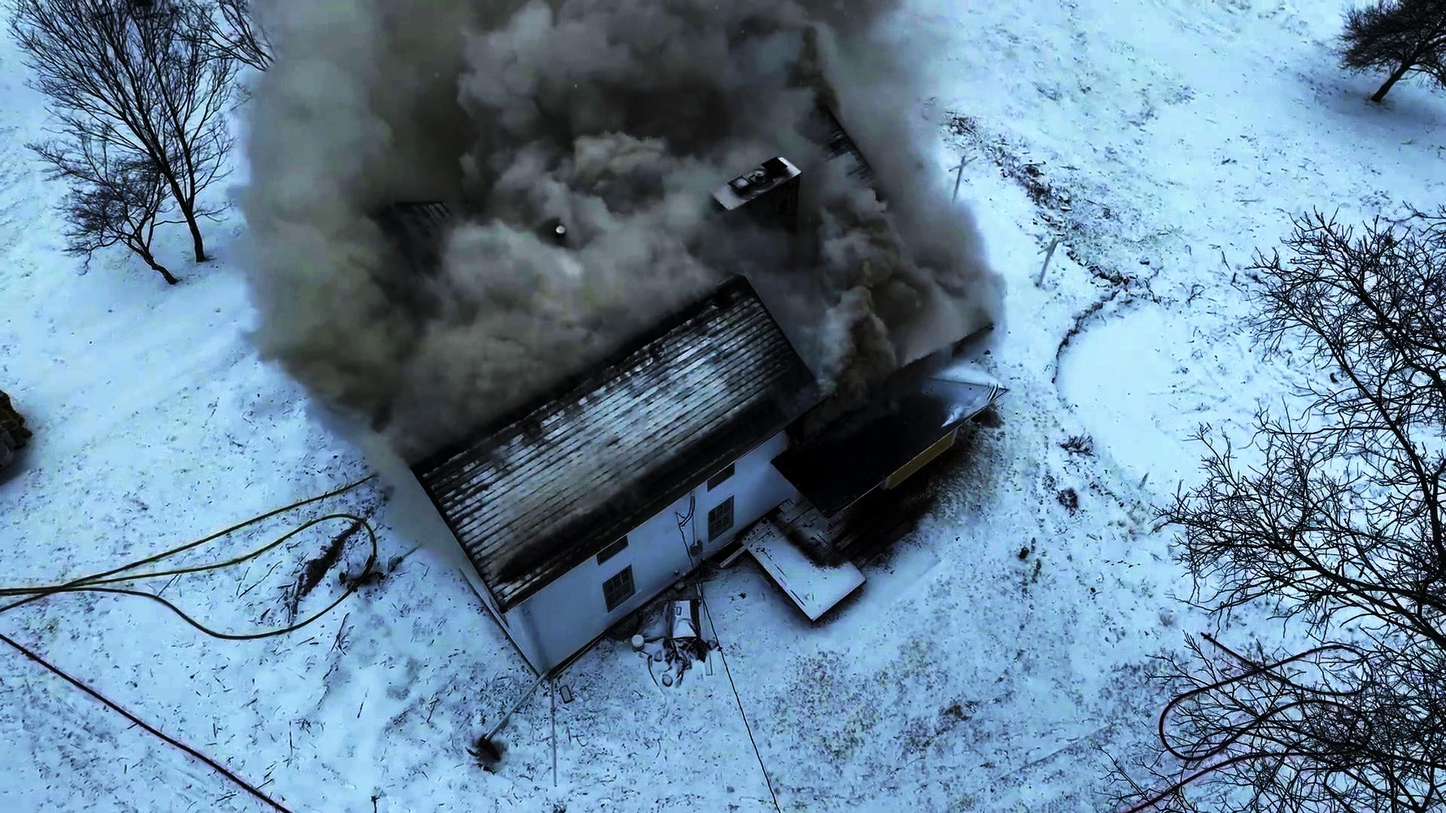smoke: (443, 40, 847, 348)
